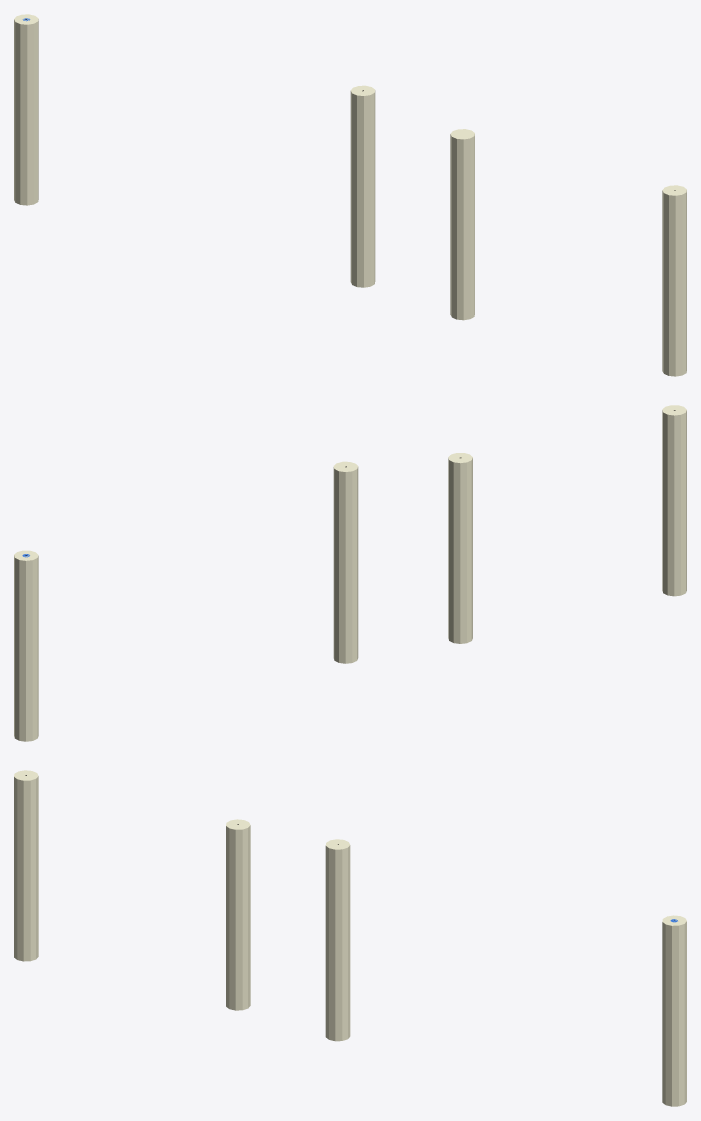
The model's file is tile_87.glb.
The picture shows the model from 3 angles, top to bottom: view 1: azimuth 90°, elevation 25°; view 2: azimuth 150°, elevation 25°; view 3: azimuth 270°, elevation 25°; orthographic projection.
Bounding box in the file's own units: 4 × 2.17 × 6.75.
